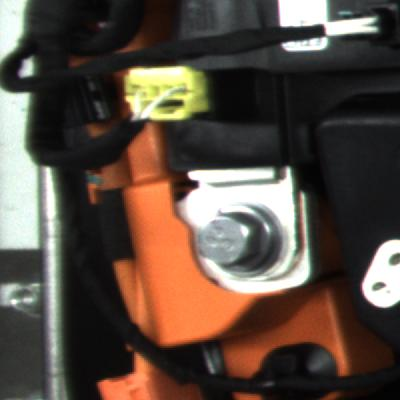nut_b: (187, 189, 286, 285)
